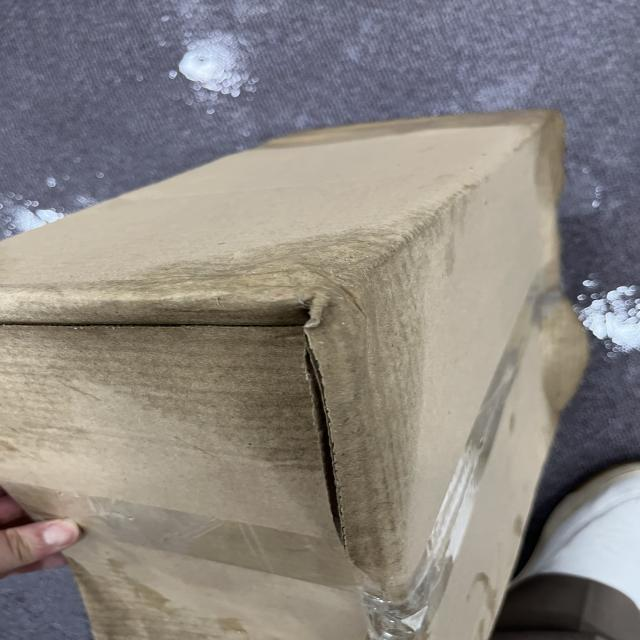wet: (120, 232, 473, 570)
